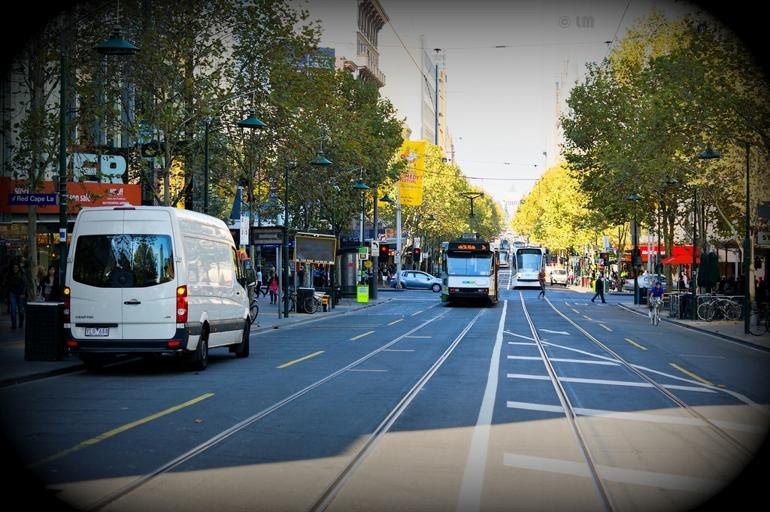non-vehicle: (695, 294, 741, 322), (281, 287, 319, 314), (747, 308, 769, 336), (646, 299, 663, 326), (249, 297, 259, 327)
